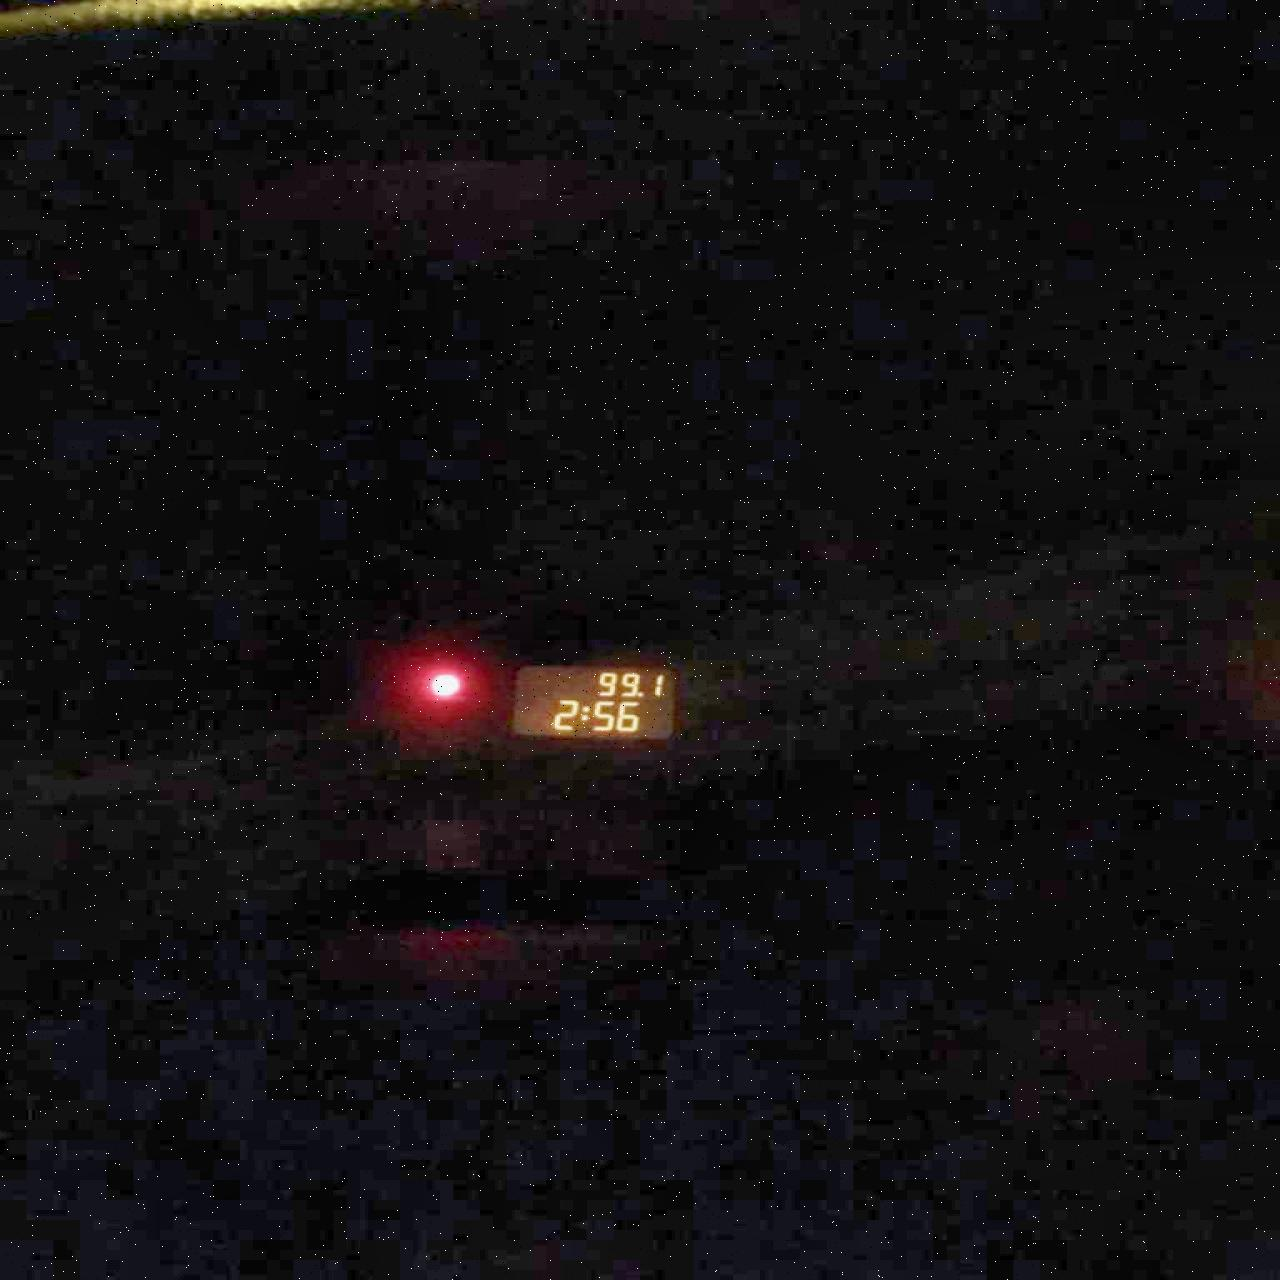-: (635, 690, 641, 696)
1: (649, 672, 663, 696)
2: (550, 696, 578, 730)
5: (590, 699, 613, 731)
6: (614, 700, 639, 731)
9: (617, 672, 639, 696), (595, 670, 617, 696)
X: (579, 703, 588, 721)
odometer: (498, 660, 680, 741)
